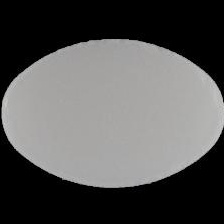63187-601: (0, 0, 224, 224)
